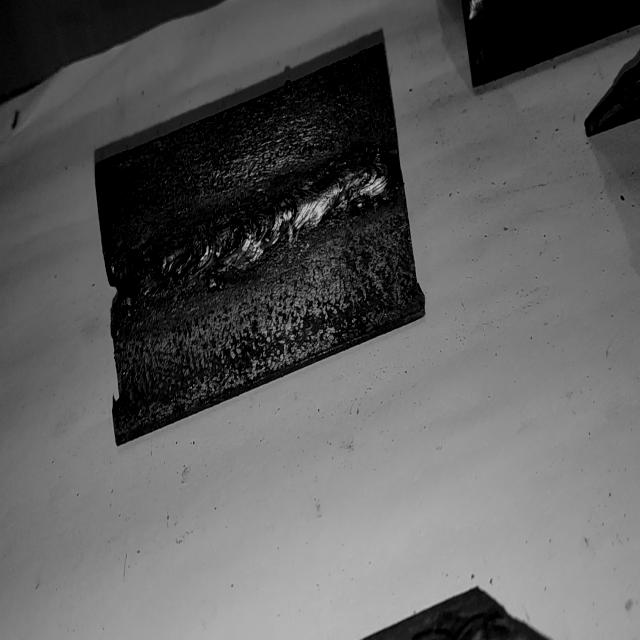Bad Weld: (118, 151, 400, 313)
Defect: (106, 202, 277, 302)
